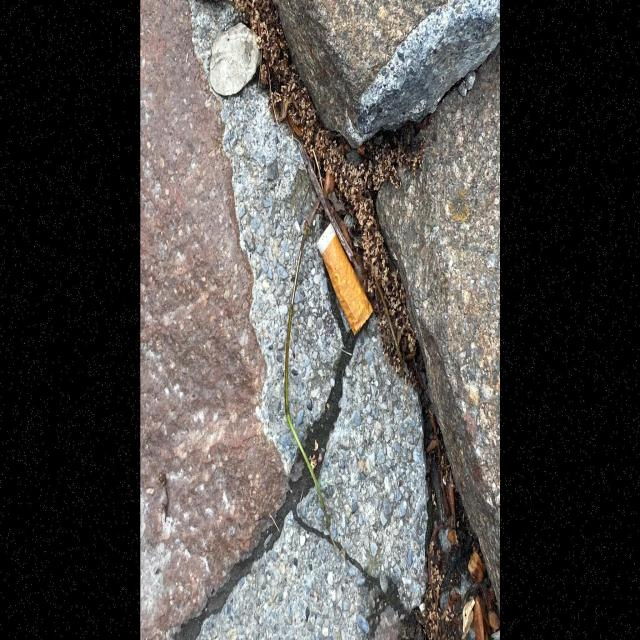other waste: (316, 222, 374, 337)
